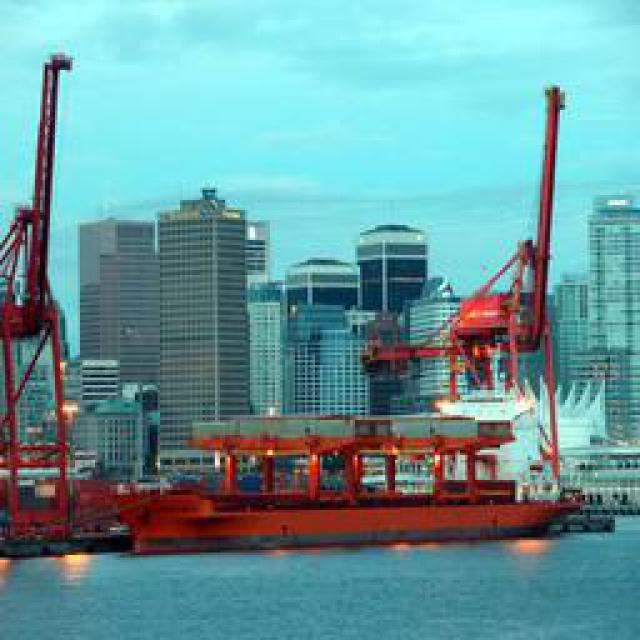Ship: (110, 420, 588, 555)
